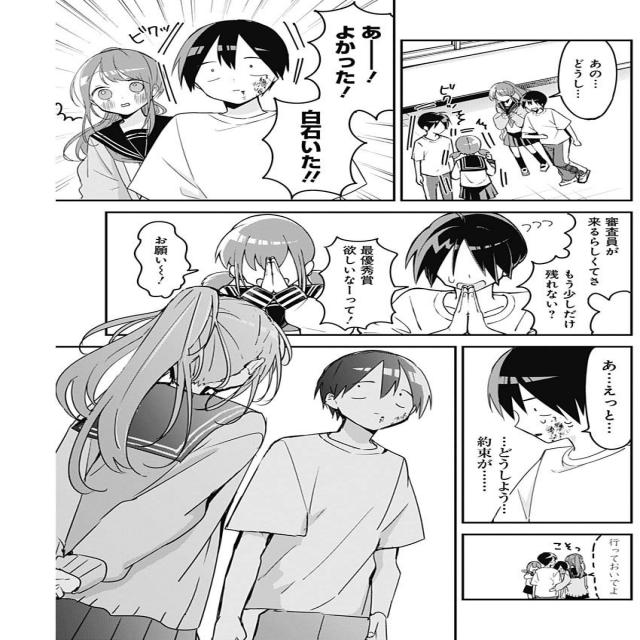Bubble: (255, 96, 367, 199), (304, 1, 397, 121), (315, 233, 407, 331), (562, 208, 637, 302), (518, 256, 600, 338), (580, 344, 637, 452), (555, 38, 619, 124), (132, 218, 195, 298), (588, 532, 636, 601)
